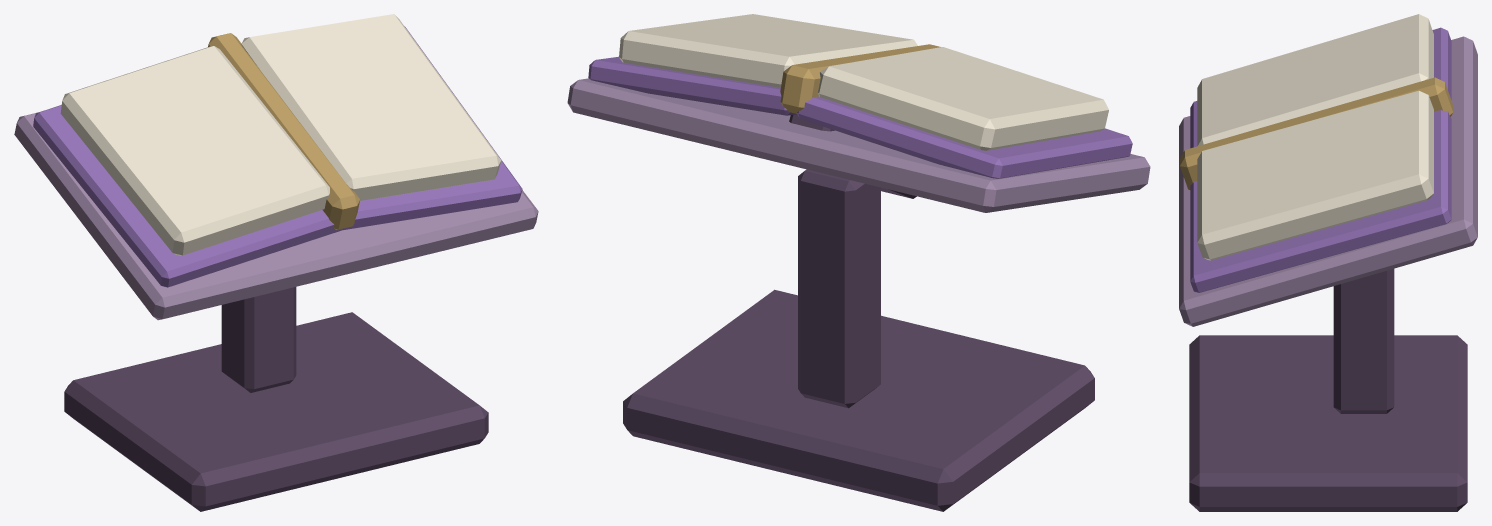
The model's file is 06_Open_Tome_Stand.glb.
3 views of the same model, side by side, from view 1: azimuth 30°, elevation 25°; view 2: azimuth 150°, elevation 25°; view 3: azimuth 270°, elevation 25° (orthographic). The views are drawn at different scales.
Visible parts, largest first — view 1: 06_Open_Tome_Stand__Body; view 2: 06_Open_Tome_Stand__Body; view 3: 06_Open_Tome_Stand__Body.
Boxes of the visible parts, x1,y1,x2,y2 form: 06_Open_Tome_Stand__Body: (14, 14, 538, 511); 06_Open_Tome_Stand__Body: (567, 14, 1150, 511); 06_Open_Tome_Stand__Body: (1179, 14, 1477, 511).
Bounding box in the file's own units: 1.77 × 1.58 × 1.18.
Materials: 1 (1 with a texture image).
